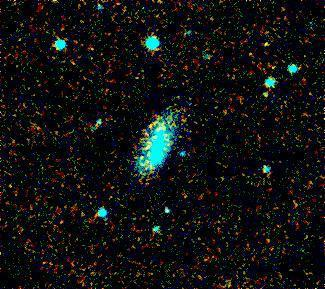star: (131, 109, 161, 139)
